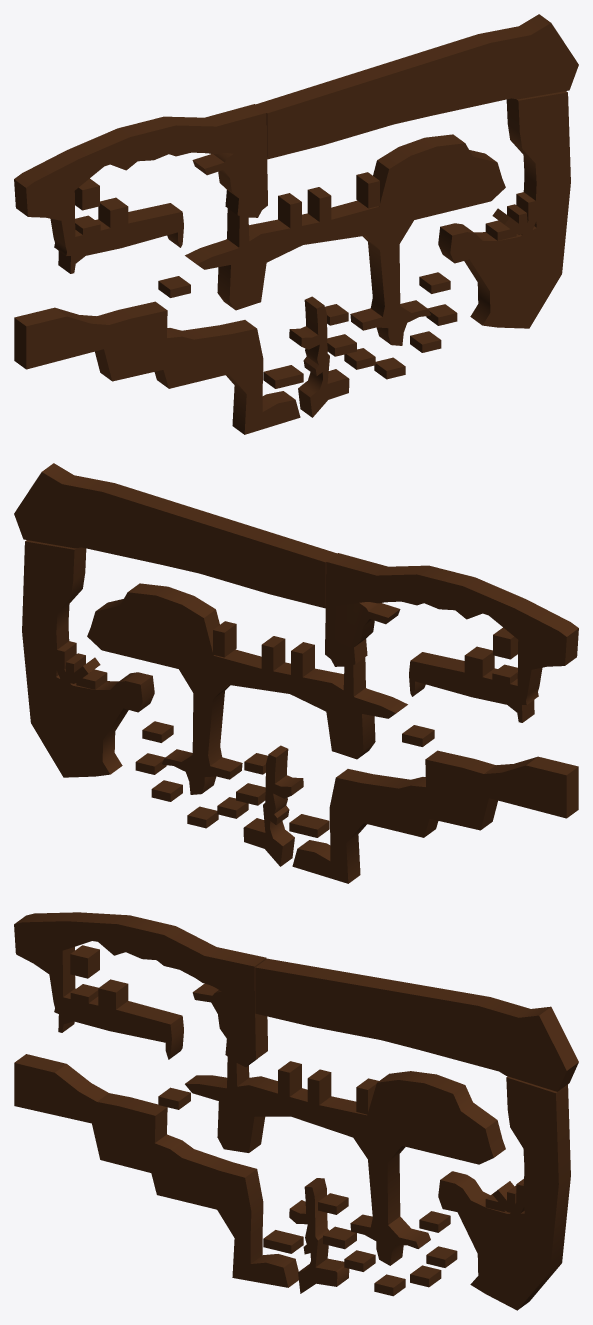
File: forest_heim_level_03.FBX
The picture shows the model from 3 angles, top to bottom: view 1: azimuth 30°, elevation 25°; view 2: azimuth 150°, elevation 25°; view 3: azimuth 330°, elevation 25°; orthographic projection.
Visible parts, largest first — view 1: BAISIC_15, BAISIC_02, BAISIC_14, BAISIC_01, BAISIC_16, BAISIC_11, BAISIC_17, BAISIC_21, BAISIC_19, BAISIC_18, BAISIC_20, BAISIC_12 (+4 smaller); view 2: BAISIC_15, BAISIC_02, BAISIC_14, BAISIC_01, BAISIC_16, BAISIC_11, BAISIC_17, BAISIC_21, BAISIC_19, BAISIC_18, BAISIC_20, BAISIC_03 (+4 smaller); view 3: BAISIC_15, BAISIC_02, BAISIC_14, BAISIC_01, BAISIC_16, BAISIC_11, BAISIC_17, BAISIC_23, BAISIC_21, BAISIC_19, BAISIC_20, BAISIC_12 (+9 smaller).
Part boxes in pixels (bbox=[...]): BAISIC_15: bbox=[255, 14, 578, 159]; BAISIC_02: bbox=[185, 134, 505, 345]; BAISIC_14: bbox=[14, 104, 267, 273]; BAISIC_01: bbox=[14, 301, 300, 434]; BAISIC_16: bbox=[438, 91, 570, 328]; BAISIC_11: bbox=[289, 296, 349, 417]; BAISIC_17: bbox=[485, 192, 536, 240]; BAISIC_21: bbox=[98, 197, 128, 230]; BAISIC_19: bbox=[307, 187, 331, 222]; BAISIC_18: bbox=[356, 172, 379, 208]; BAISIC_20: bbox=[278, 193, 301, 229]; BAISIC_12: bbox=[263, 365, 303, 388]; BAISIC_15: bbox=[14, 463, 337, 608]; BAISIC_02: bbox=[87, 583, 407, 794]; BAISIC_14: bbox=[325, 553, 578, 722]; BAISIC_01: bbox=[292, 750, 578, 883]; BAISIC_16: bbox=[22, 540, 154, 777]; BAISIC_11: bbox=[243, 745, 303, 866]; BAISIC_17: bbox=[56, 641, 107, 689]; BAISIC_21: bbox=[464, 646, 494, 679]; BAISIC_19: bbox=[261, 636, 285, 671]; BAISIC_18: bbox=[213, 621, 236, 657]; BAISIC_20: bbox=[291, 642, 314, 678]; BAISIC_03: bbox=[343, 657, 365, 697]; BAISIC_15: bbox=[255, 958, 578, 1091]; BAISIC_02: bbox=[185, 1071, 505, 1265]; BAISIC_14: bbox=[14, 912, 267, 1067]; BAISIC_01: bbox=[14, 1054, 298, 1287]; BAISIC_16: bbox=[438, 1076, 570, 1310]; BAISIC_11: bbox=[289, 1178, 349, 1293]; BAISIC_17: bbox=[485, 1179, 524, 1217]; BAISIC_23: bbox=[70, 945, 99, 978]; BAISIC_21: bbox=[98, 979, 128, 1012]; BAISIC_19: bbox=[307, 1069, 331, 1104]; BAISIC_20: bbox=[278, 1061, 301, 1096]; BAISIC_12: bbox=[263, 1230, 303, 1253].
Bounding box in the file's own units: 94.04 × 54.8 × 3.57.
